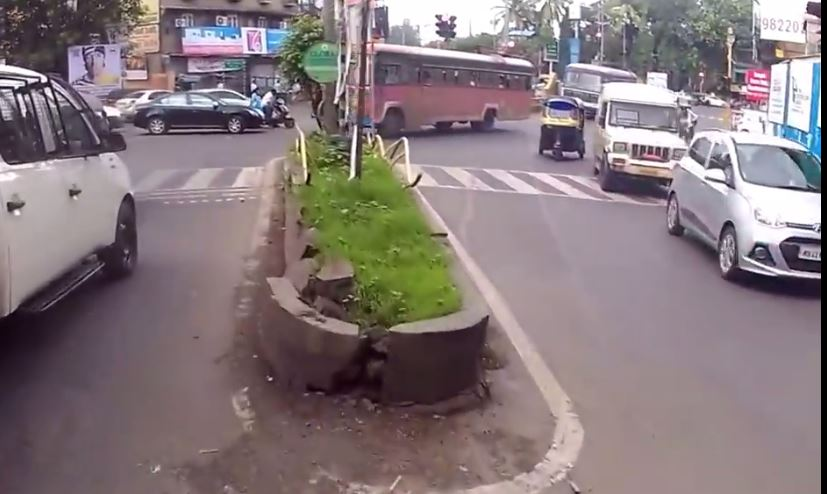autorickshaw: (534, 93, 592, 176)
car: (1, 59, 145, 381), (661, 124, 827, 301), (129, 85, 269, 147)
